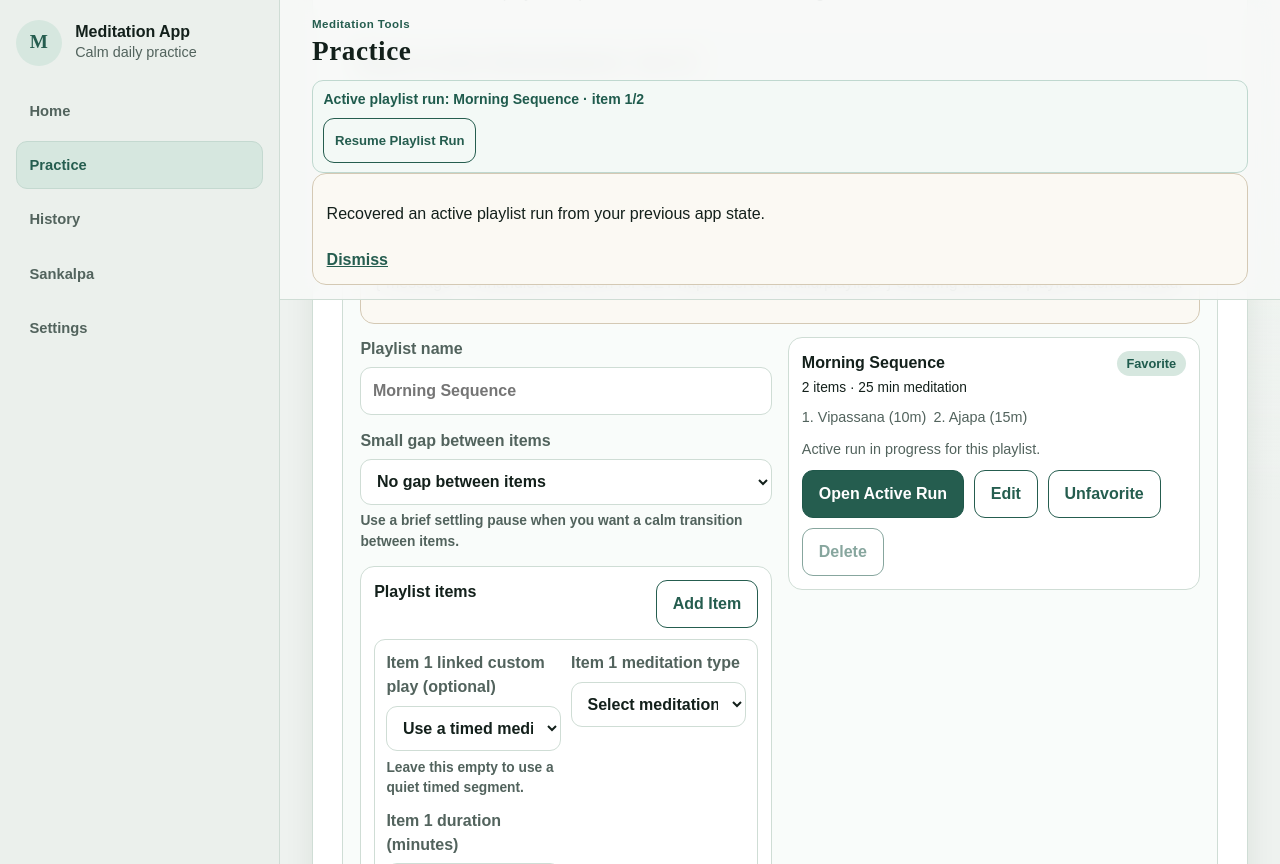
Test: PlaylistsPage UX › surfaces an active playlist and opens the run screen to continue it
(page scrolled)
Expected: the text "Playlist run active: Morning Sequence · item 1/2" is shown, [356, 54, 695, 71]
Click the button "Open Active Run": click(883, 494) [802, 470, 964, 518]
(page scrolled)
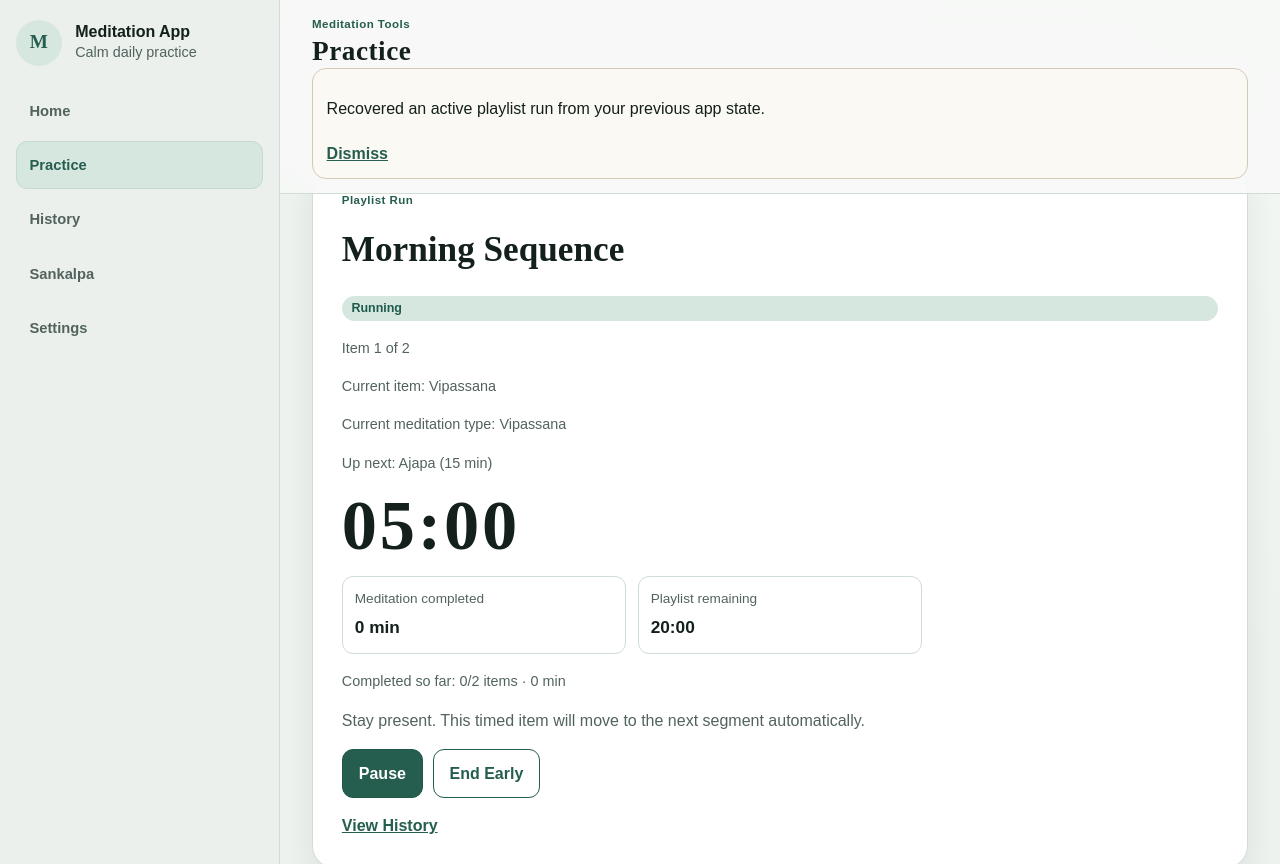
Result: the heading "Morning Sequence" is shown at [342, 230, 624, 268]
Result: the text "Up next: Ajapa (15 min)" is shown at [342, 455, 492, 471]
